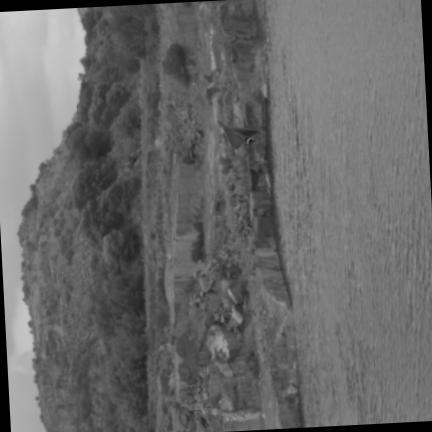Shahed: (217, 122, 260, 151)
